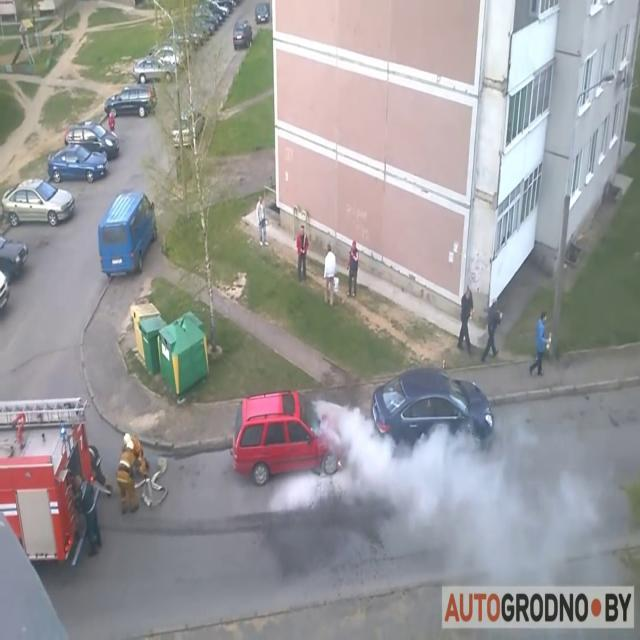Smoke: (266, 380, 612, 546)
